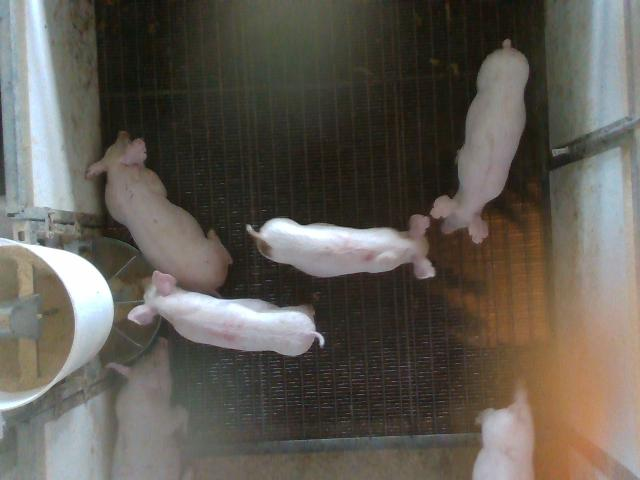pig-4: (129, 271, 324, 356)
pig-5: (246, 216, 435, 278)
